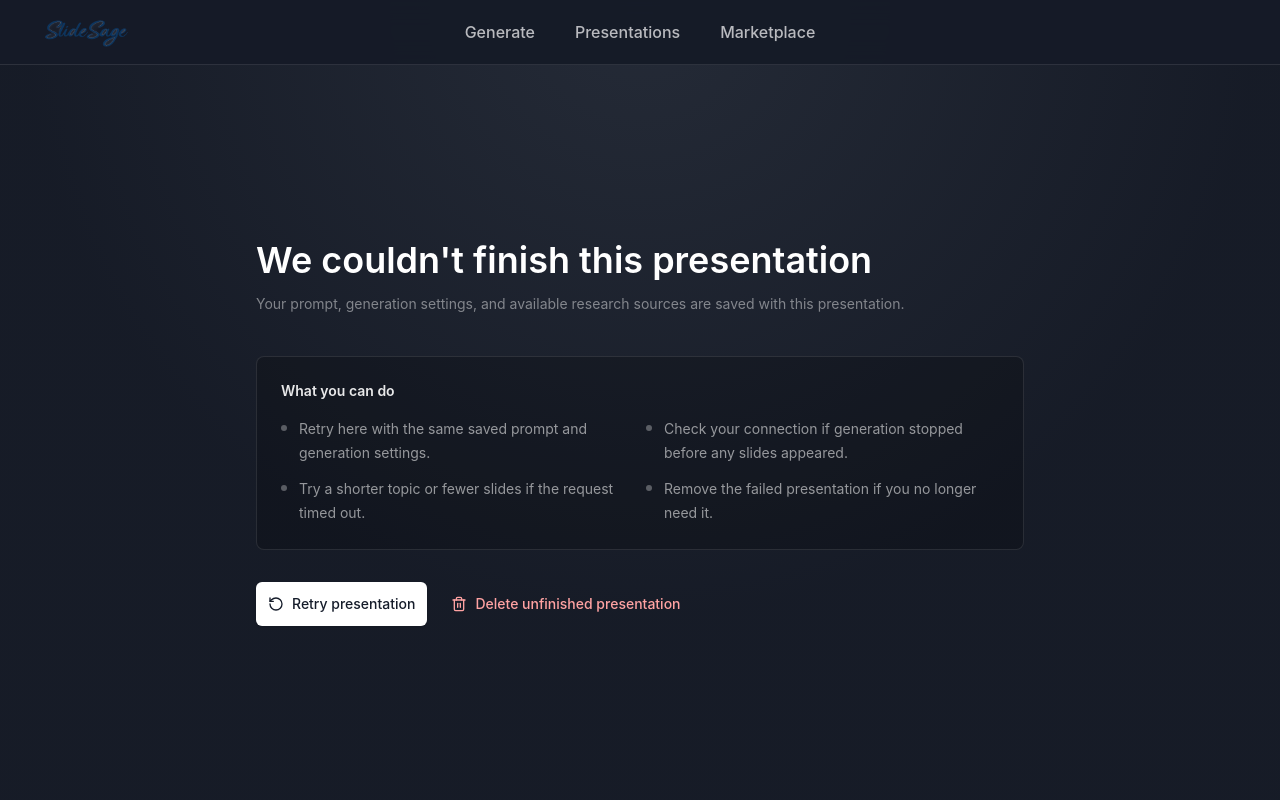
it: PresentationErrorPage › handles an HTML deployment error without exposing a JSON parser failure
The image size is (1280, 800).
Click the button "Retry presentation" at (342, 604), box left=256, top=582, right=428, bottom=626
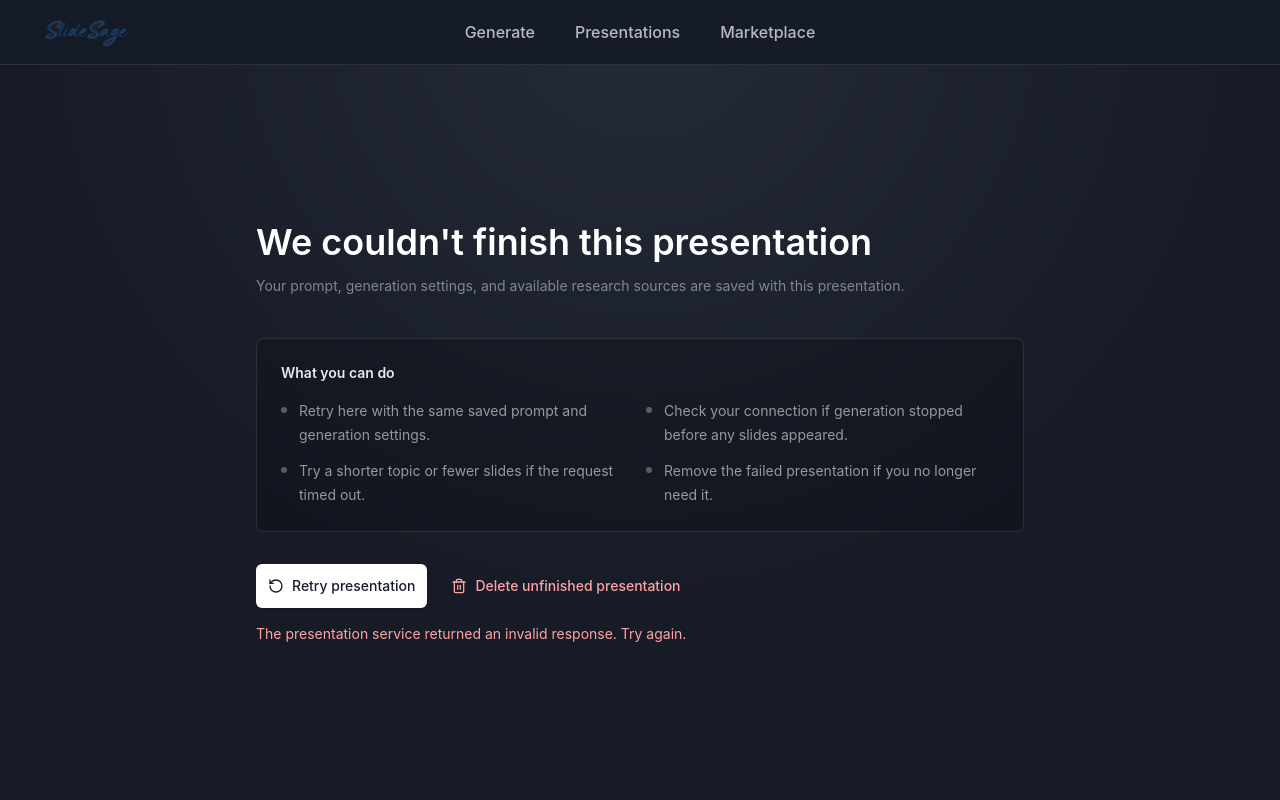
Check: the text "The presentation service returned an invalid response. Try again." is shown, box left=256, top=624, right=686, bottom=642
